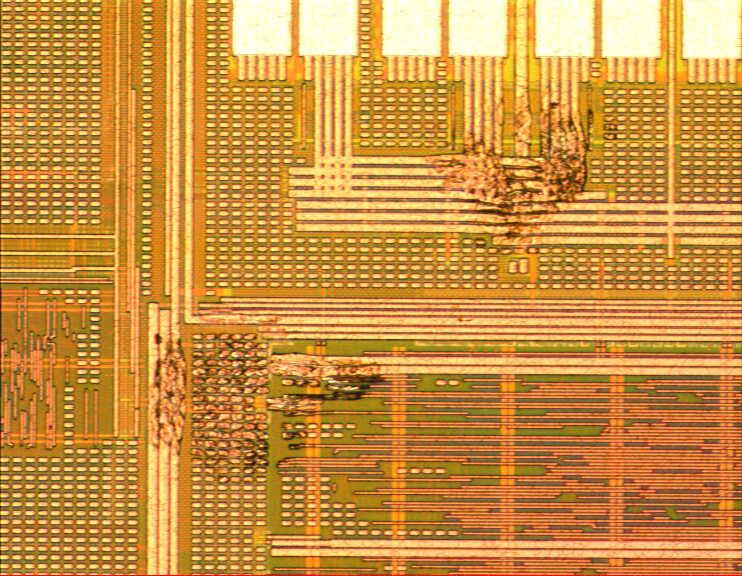SCRATCH: (134, 84, 602, 494)
